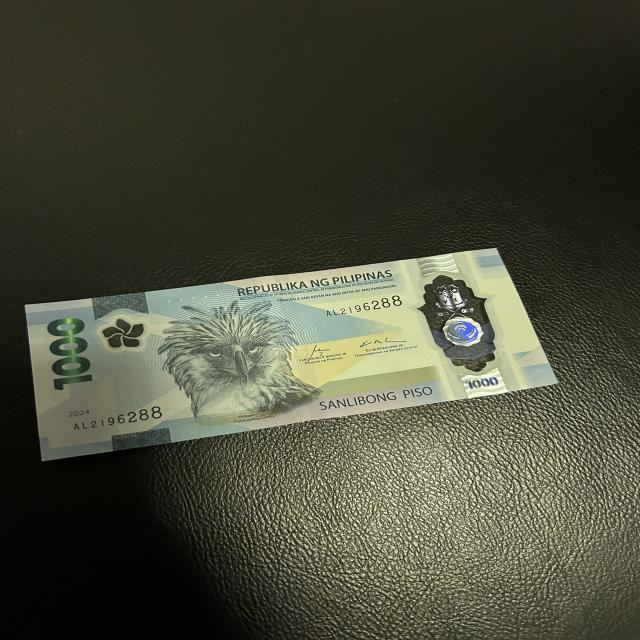clear_window: (414, 273, 504, 377)
eagle: (157, 304, 308, 423)
sampaguita: (98, 313, 152, 353)
